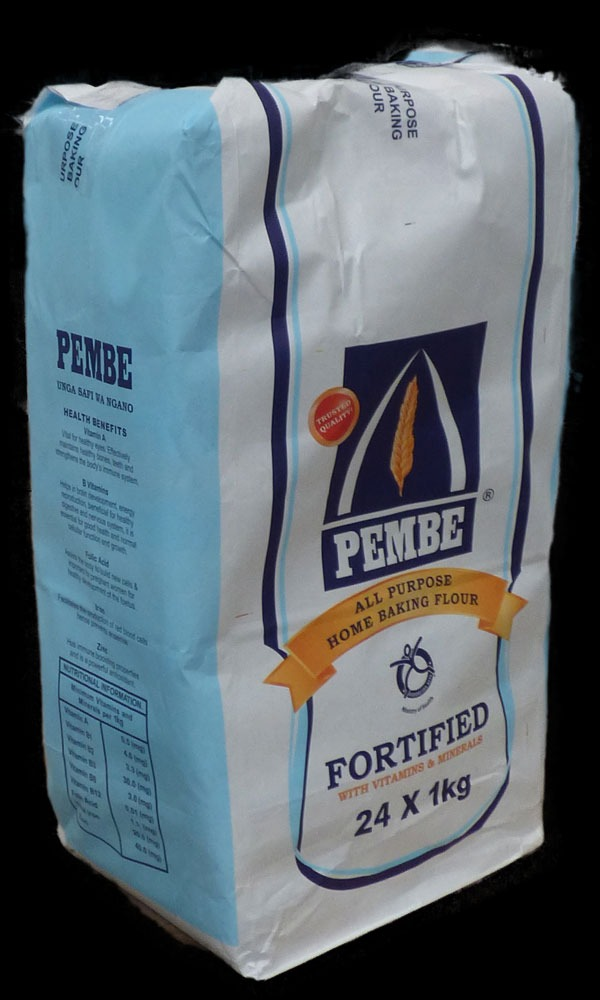wheat_flour_blue_label: (17, 47, 576, 986)
